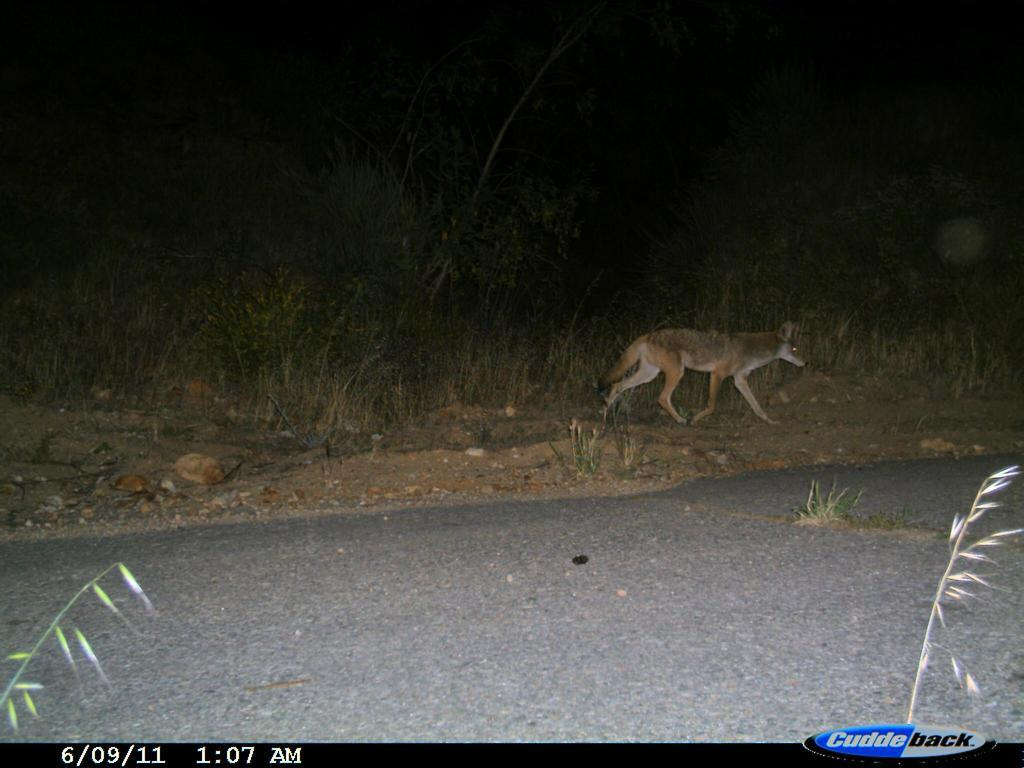coyote: (596, 319, 811, 427)
